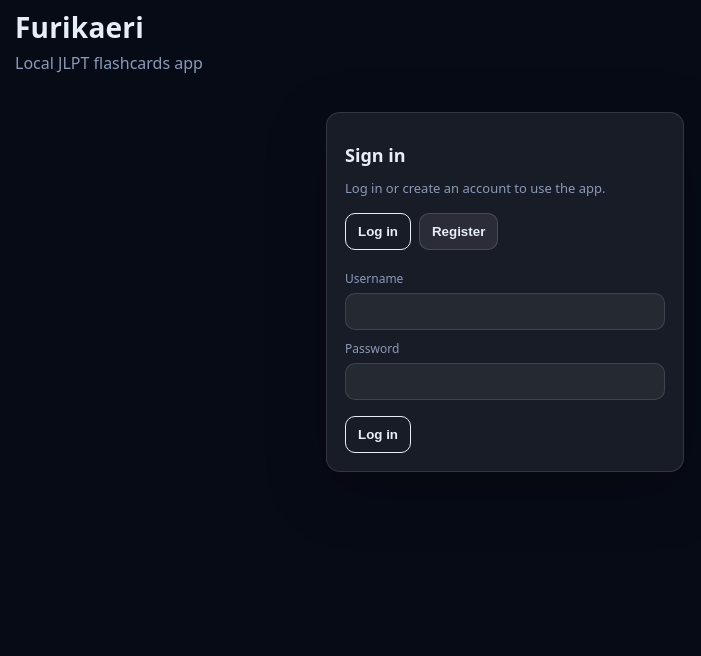
App › disables form and shows loading state on submit (prevents double submit)
The width and height of the screenshot is (701, 656).
Click the button "Register" at point(459, 232), box [419, 213, 498, 250]
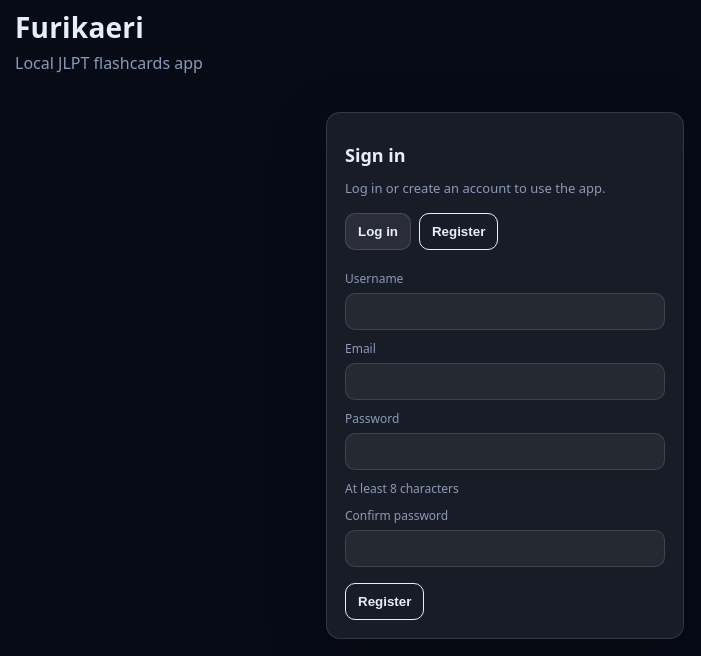
Type "newuser" into the field labelled "Username" at point(505, 312), box [345, 293, 665, 330]
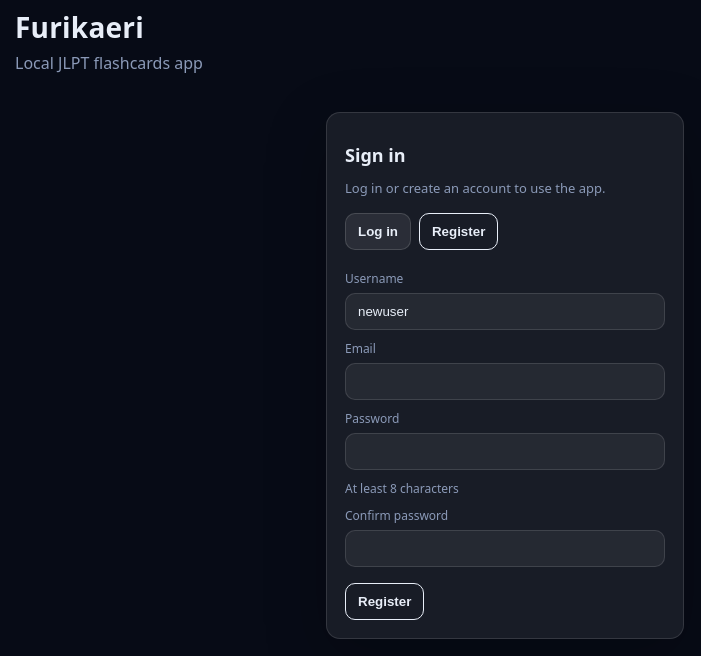
Type "u@example.com" into the field labelled "Email" at point(505, 382), box [345, 363, 665, 400]
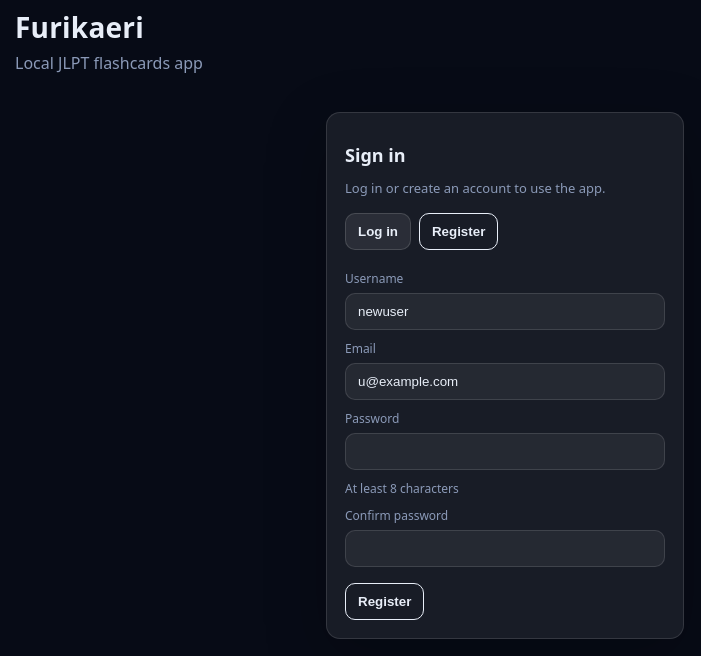
Type "password123" into the password field labelled "Password" at point(505, 452), box [345, 433, 665, 470]
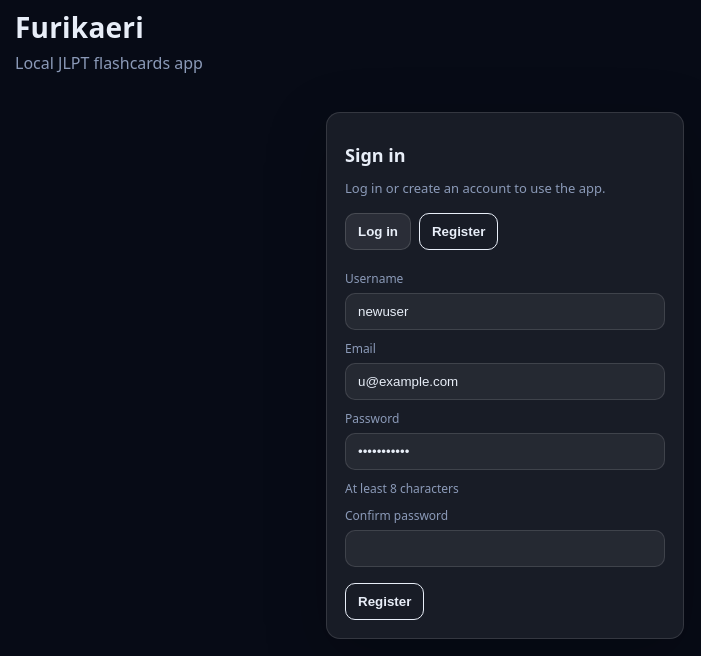
Type "password123" into the password field labelled "Confirm password" at point(505, 549), box [345, 530, 665, 567]
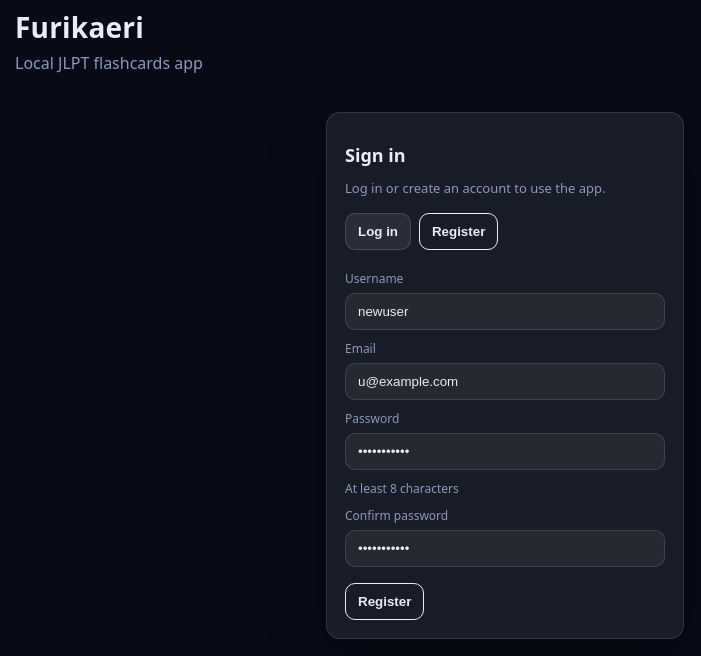
Click the button "Register" below "Confirm password" at point(385, 602), box [345, 583, 424, 620]
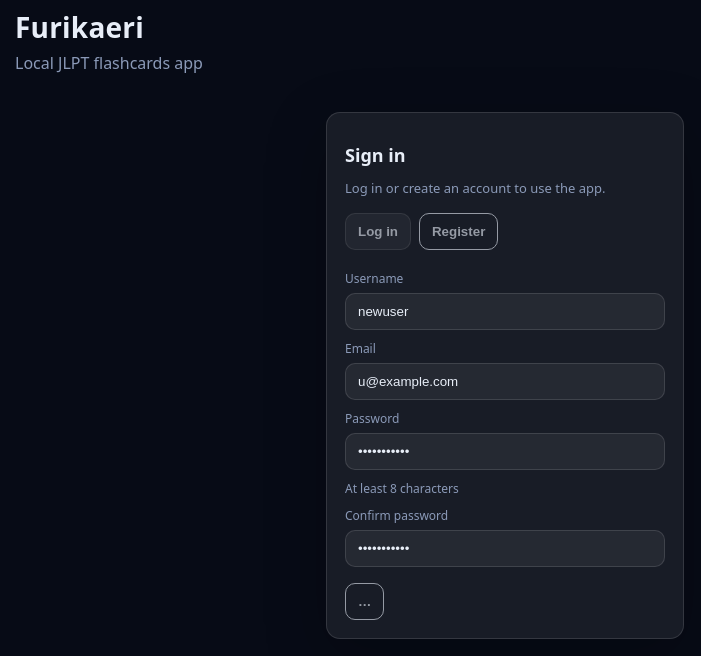
Check: the field labelled "Username" is disabled, box [345, 293, 665, 330]
Check: the button named "register" is disabled, box [345, 583, 384, 620]
Check: the button named "register" reads "…", box [345, 583, 384, 620]
